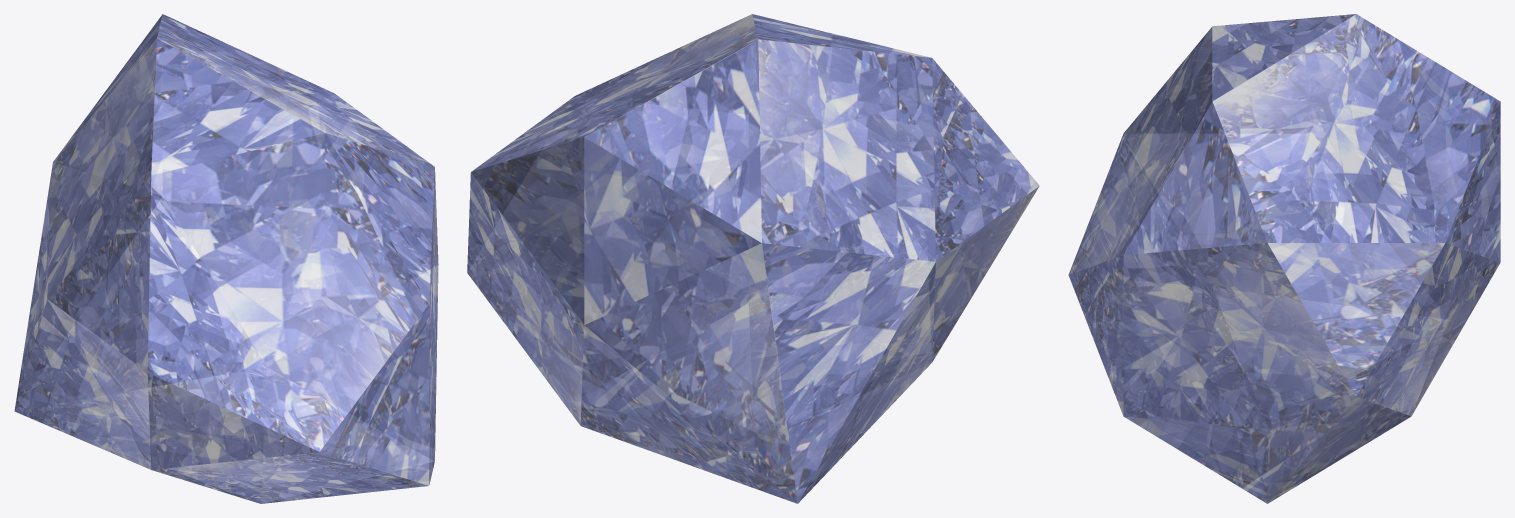
The model's file is TriangularHebesphenorotunda.obj.
3 views of the same model, side by side, from view 1: azimuth 30°, elevation 25°; view 2: azimuth 150°, elevation 25°; view 3: azimuth 270°, elevation 25° (orthographic). The views are drawn at different scales.
Bounding box in the file's own units: 2.43 × 2.43 × 2.43.
1 material, 1 textured.
